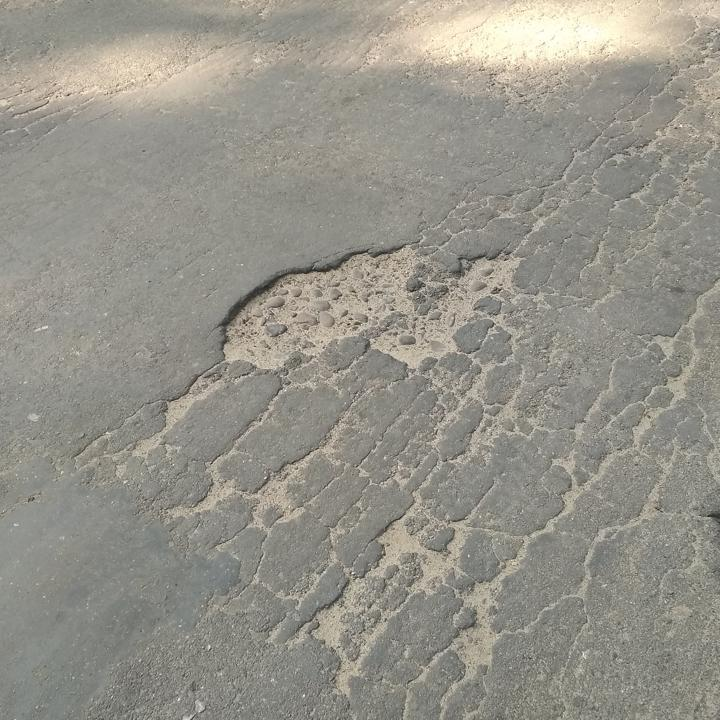pothole: (213, 240, 525, 378)
